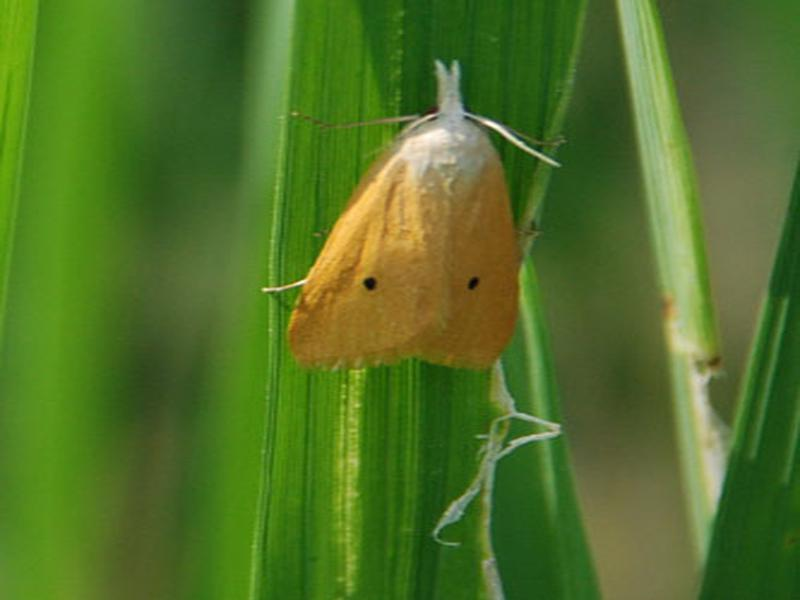Paddy_stemborer: (266, 62, 562, 389)
